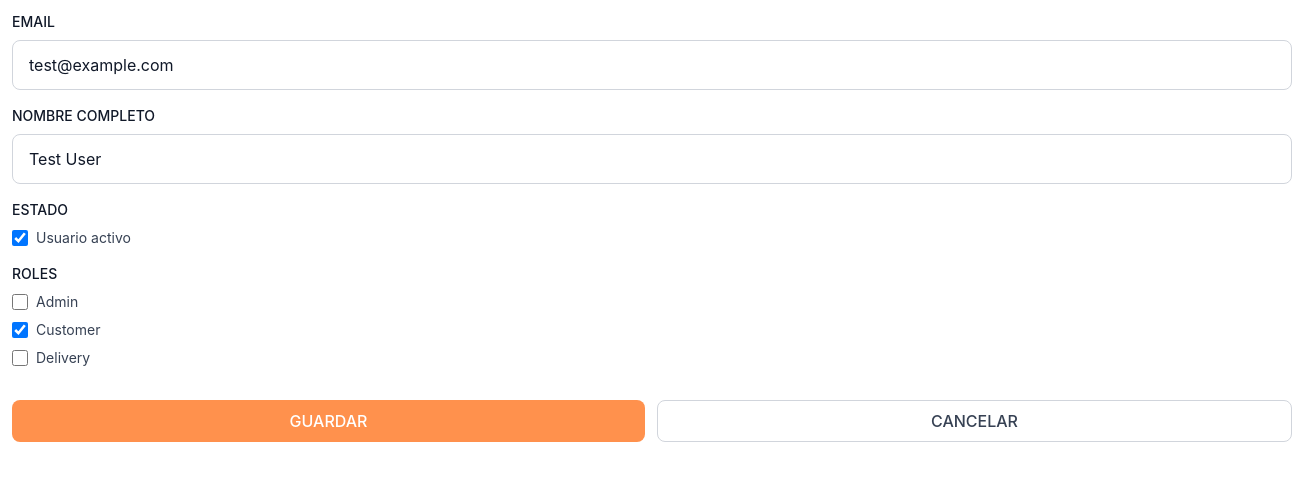
Test: EditUserForm › Form Validation › should show validation error for empty email
Clear the field showing "test@example.com" at (652, 65), box x1=12 y1=40 x2=1292 y2=90
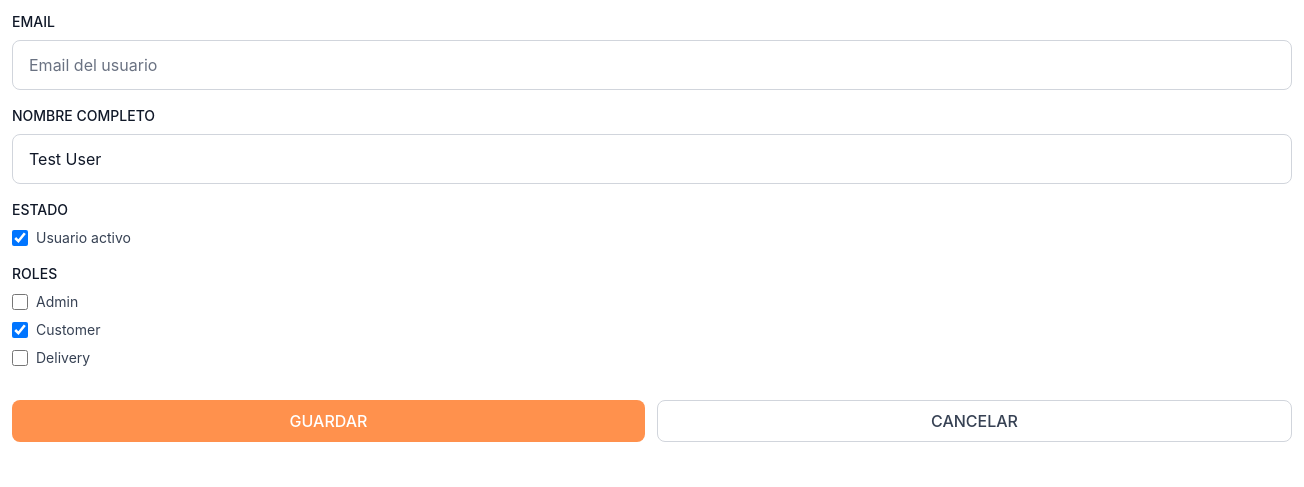
Click the button "GUARDAR" at (328, 421), box x1=12 y1=400 x2=645 y2=442
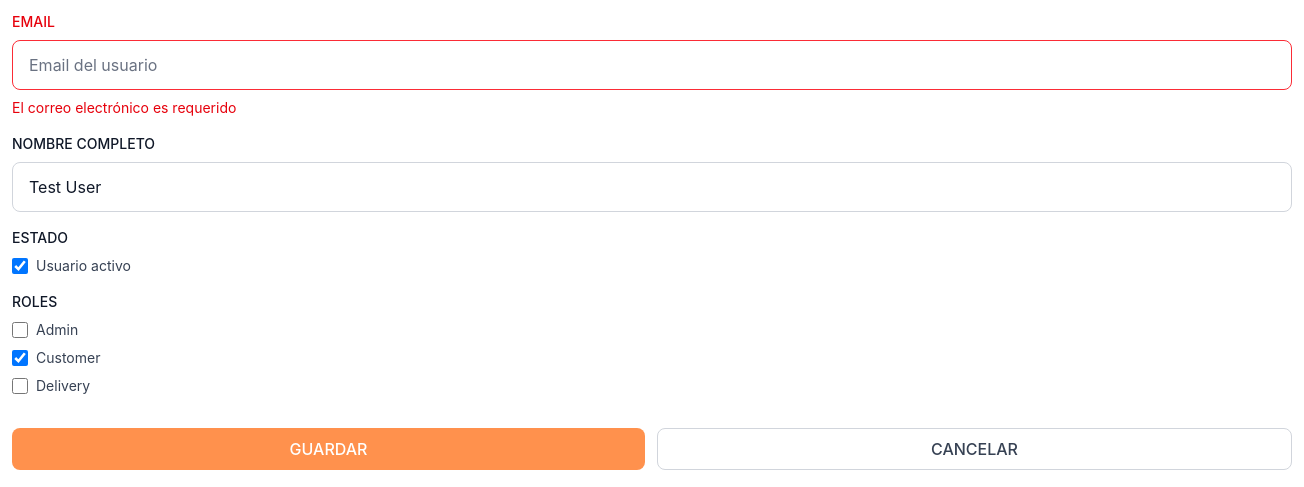
Check: the text "El correo electrónico es requerido" is shown, box x1=12 y1=99 x2=236 y2=116
